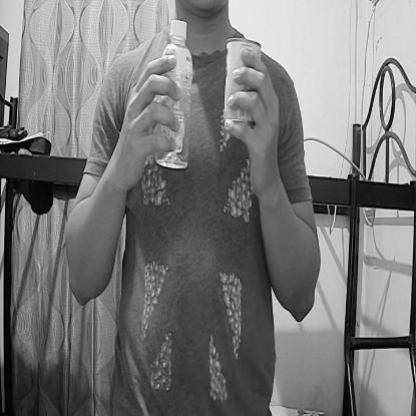Plastic Bottle: (149, 23, 200, 181)
